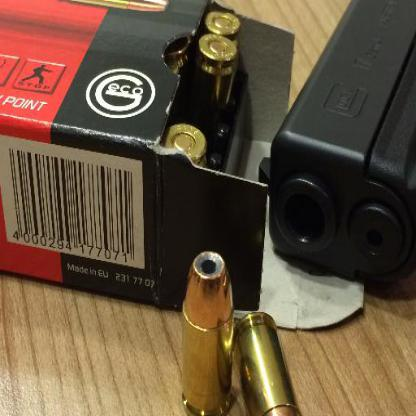gun: (257, 0, 415, 289)
